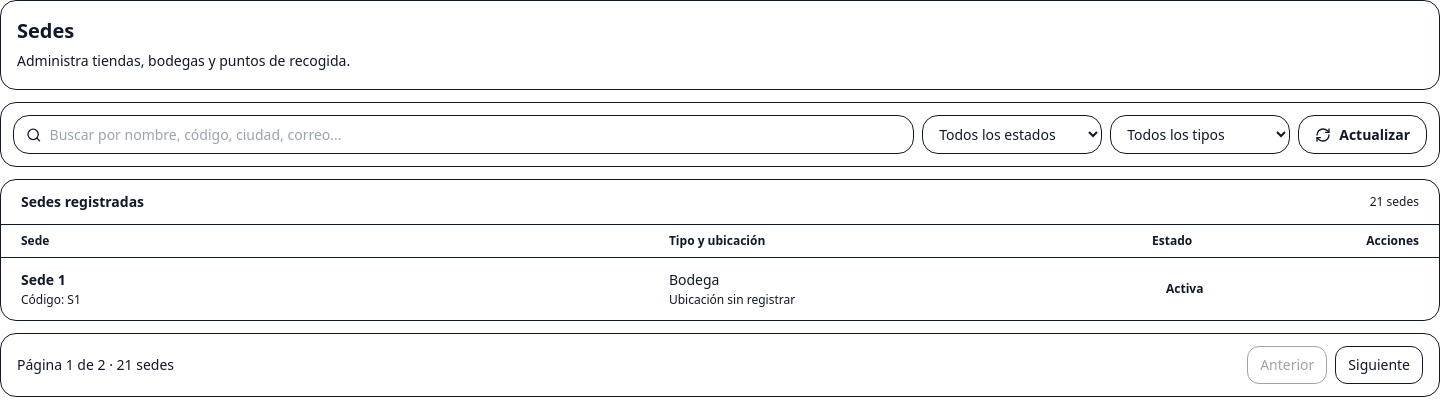
it: permite ver y paginar sedes sin mostrar controles de escritura al lector
The width and height of the screenshot is (1440, 414).
Expected: the text "Sede 1" is shown, [21, 270, 66, 290]
Click the button "Siguiente".
click(1379, 365)  # box [1335, 346, 1423, 384]
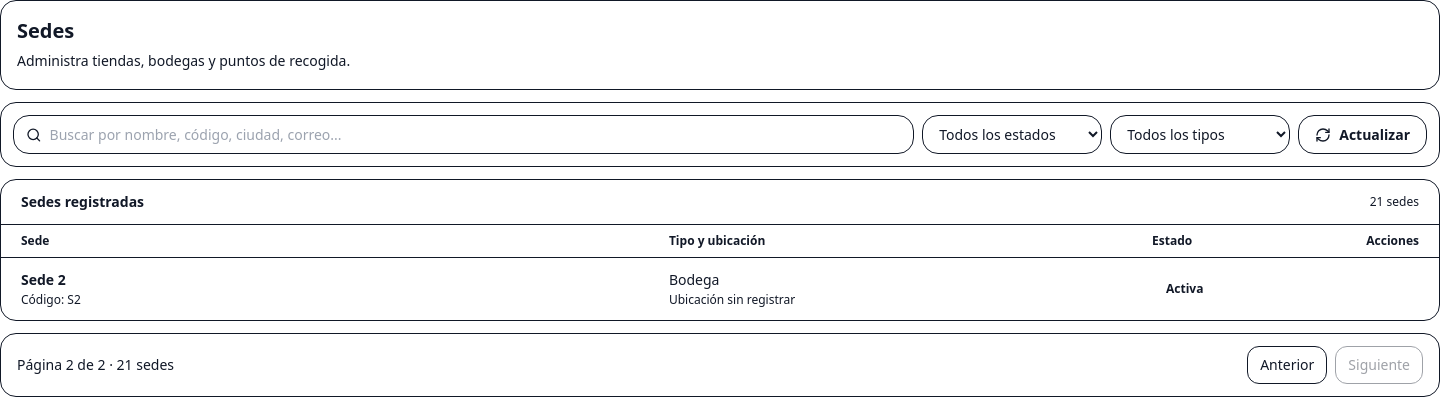
Now the text "Sede 2" is shown, box [21, 270, 66, 290]
